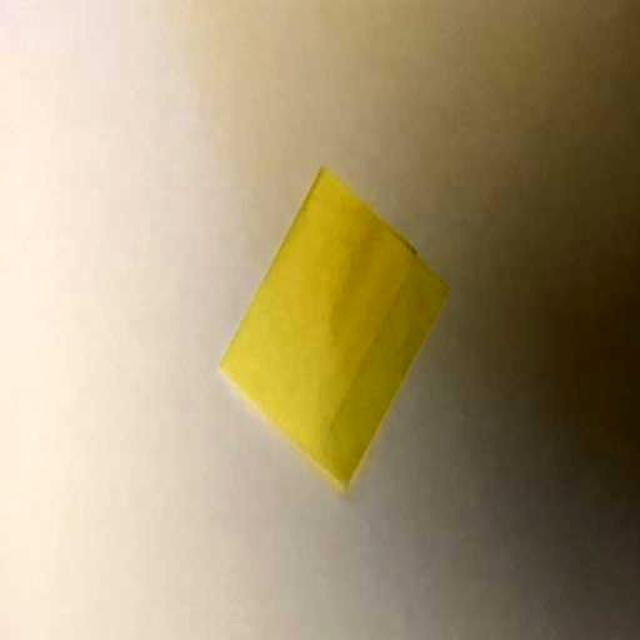Paper: (215, 162, 457, 497)
